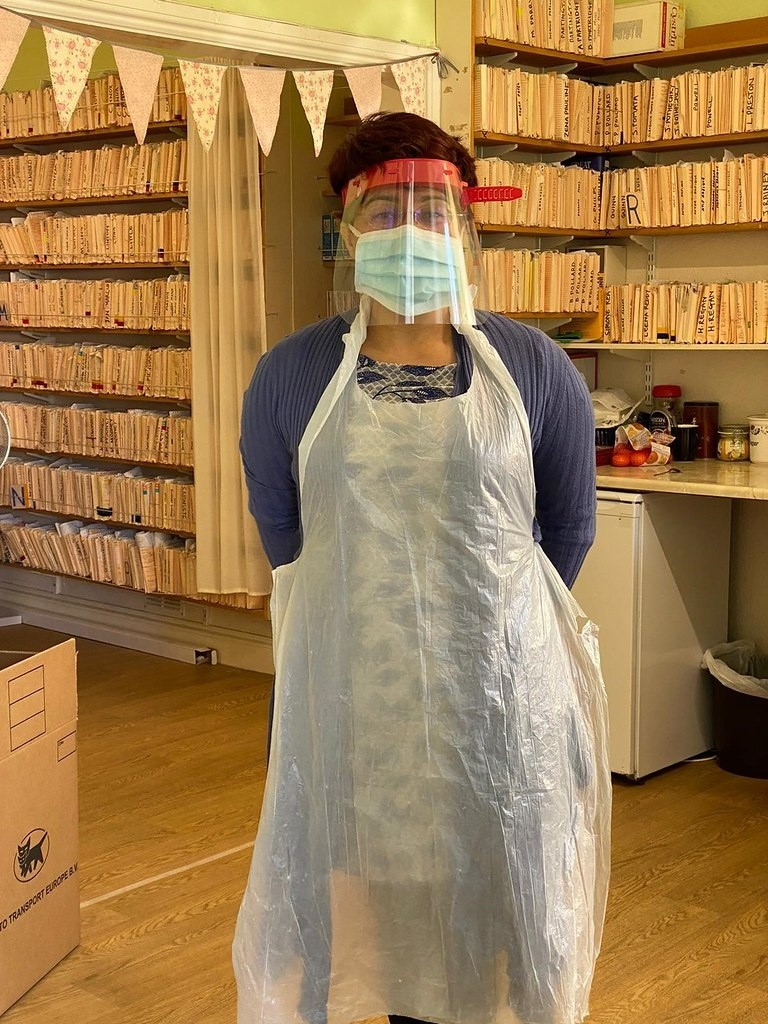face_with_mask: (330, 118, 483, 324)
